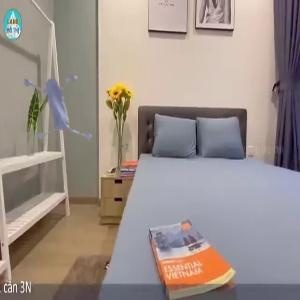drone: (5, 49, 123, 167)
